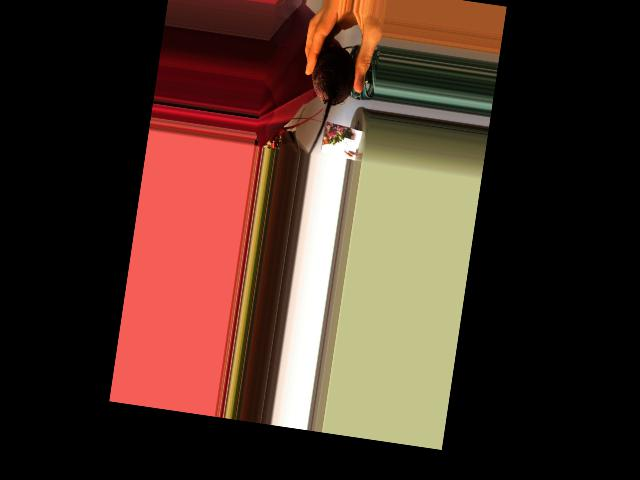beet: (300, 42, 359, 160)
